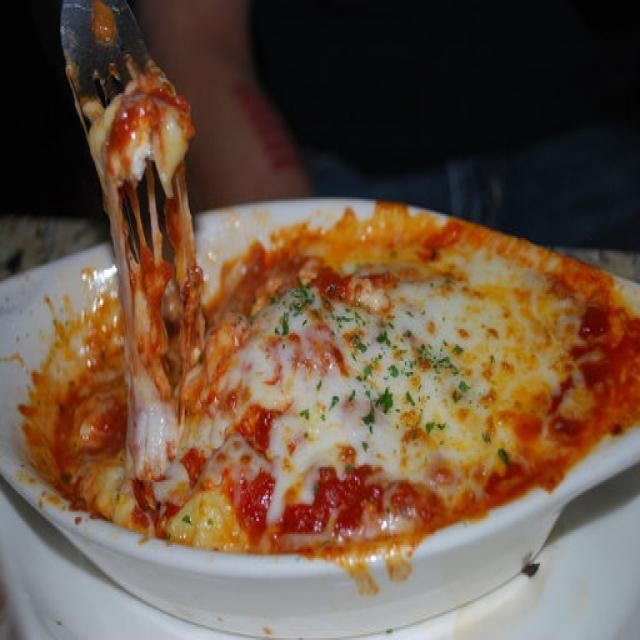Lasagna: (67, 214, 623, 550)
